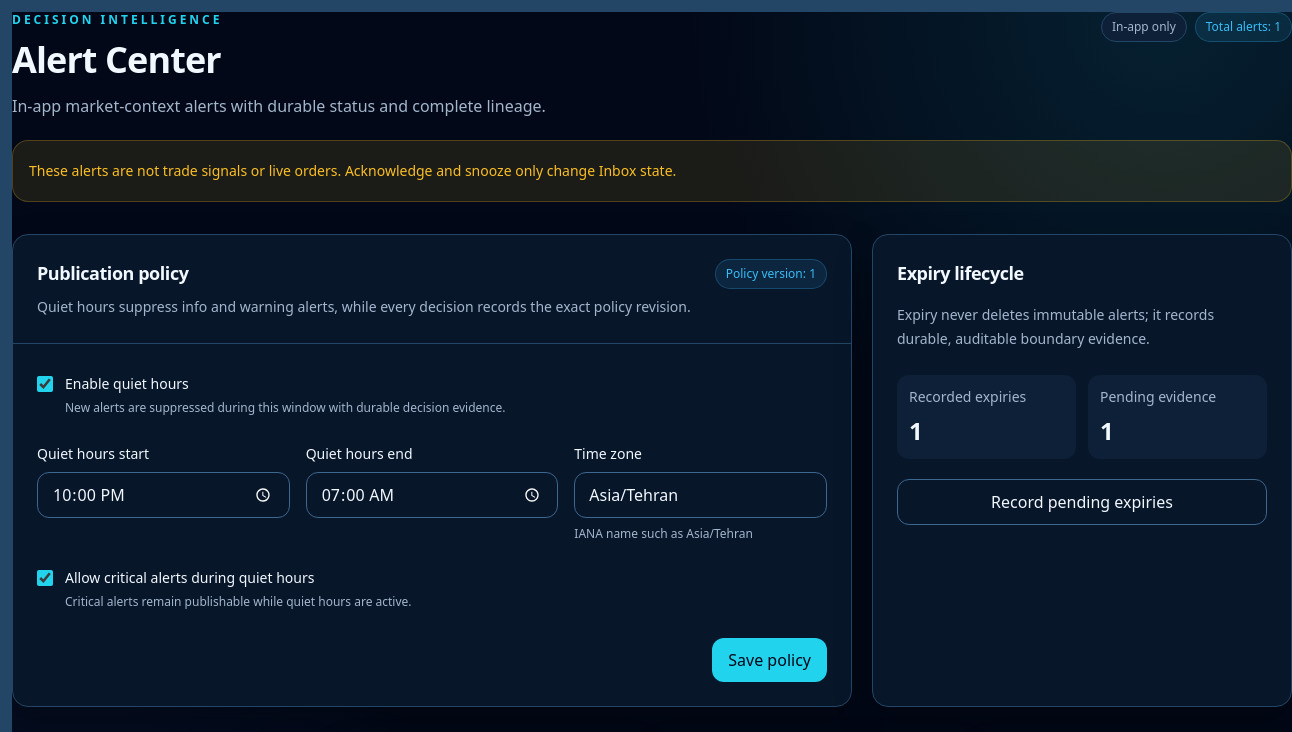
Test: AlertCenter › saves a versioned quiet-hours policy
Replace the text in the field labelled "Time zone" with "UTC" at (701, 495), box [574,472,827,518]
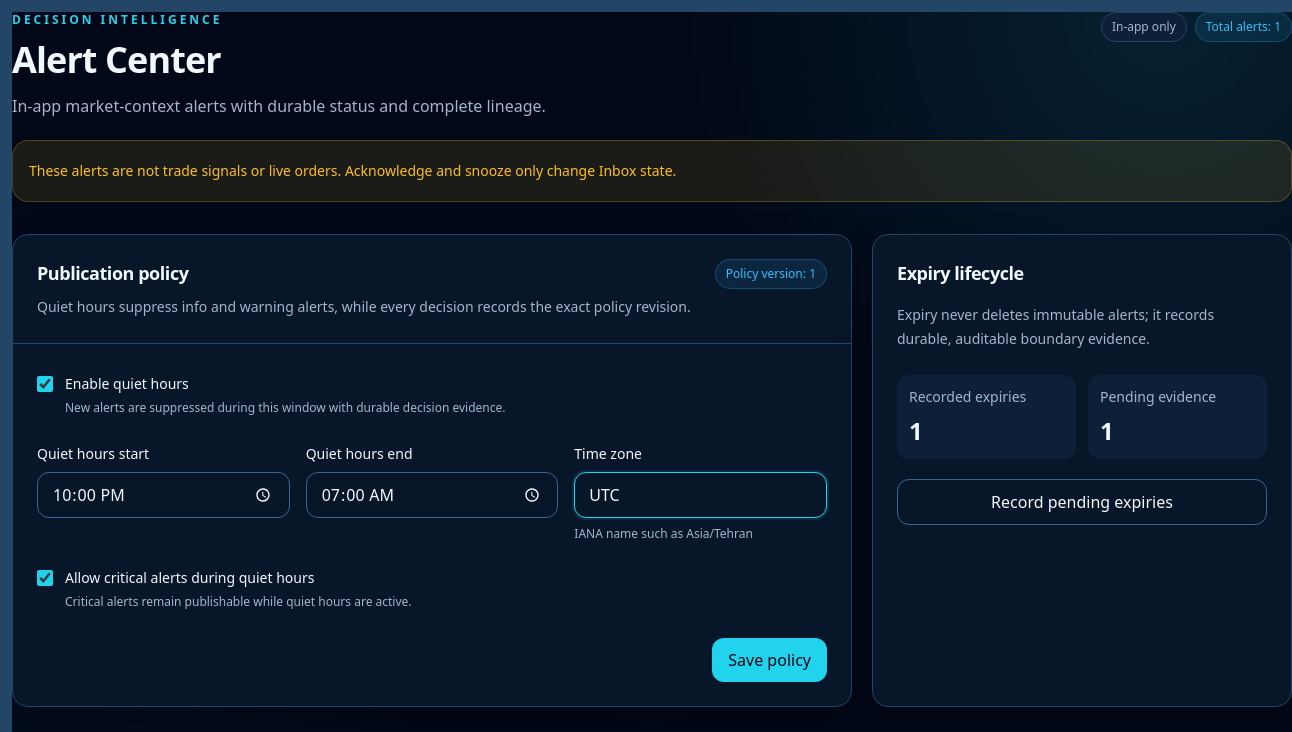
Click the button "Save policy" at (770, 660), box [712,638,827,682]
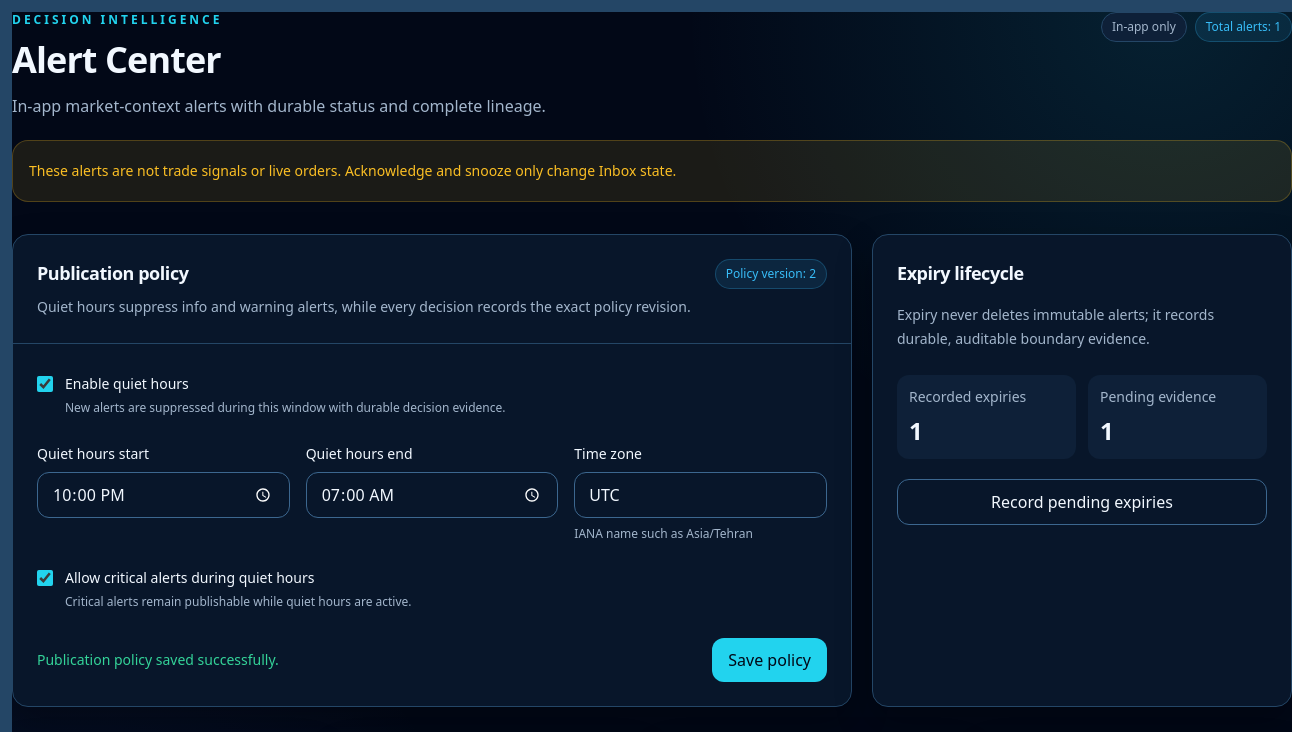
Check: the text "Publication policy saved successfully." is shown, box [37,650,279,669]
Check: the text "Policy version: 2" is shown, box [715,259,827,289]
